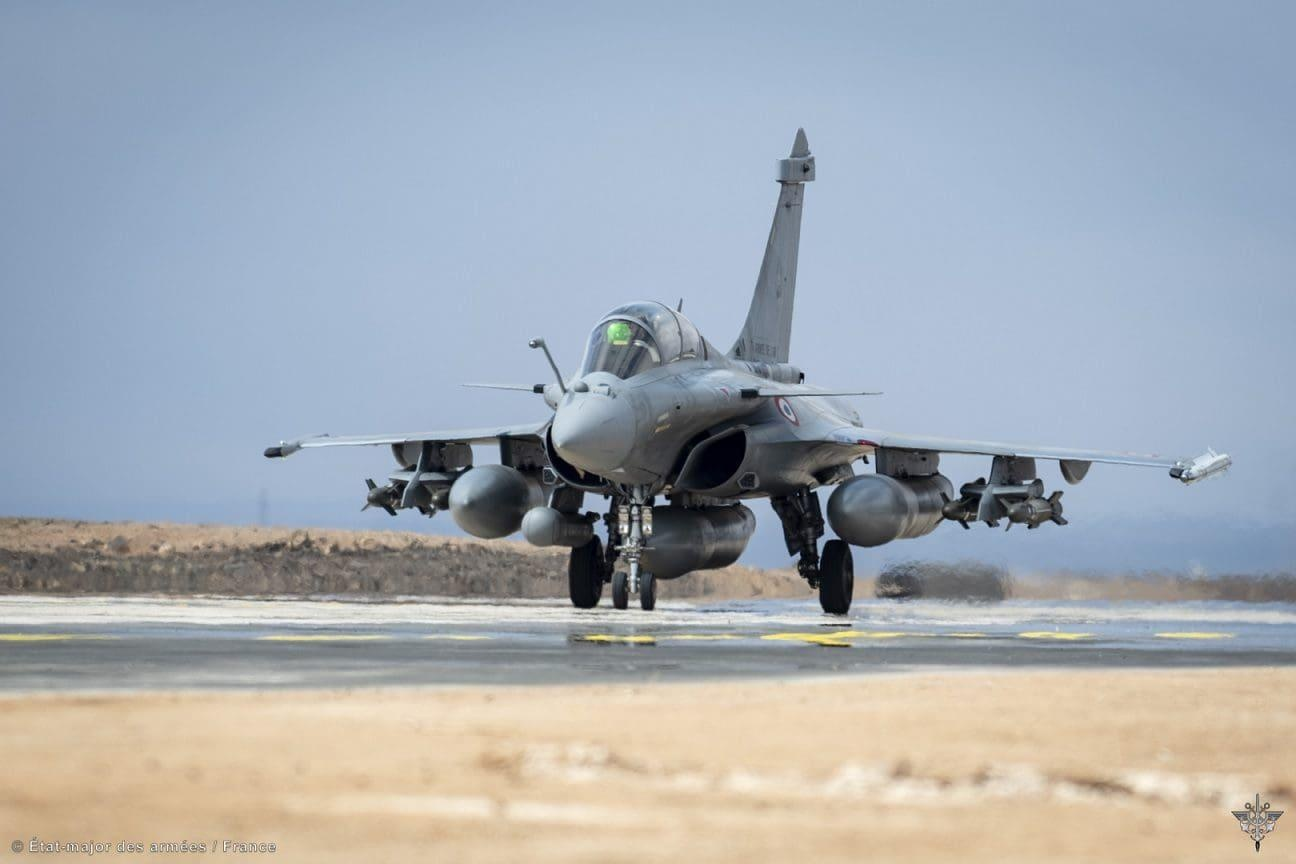aircraft: (233, 125, 1255, 615)
